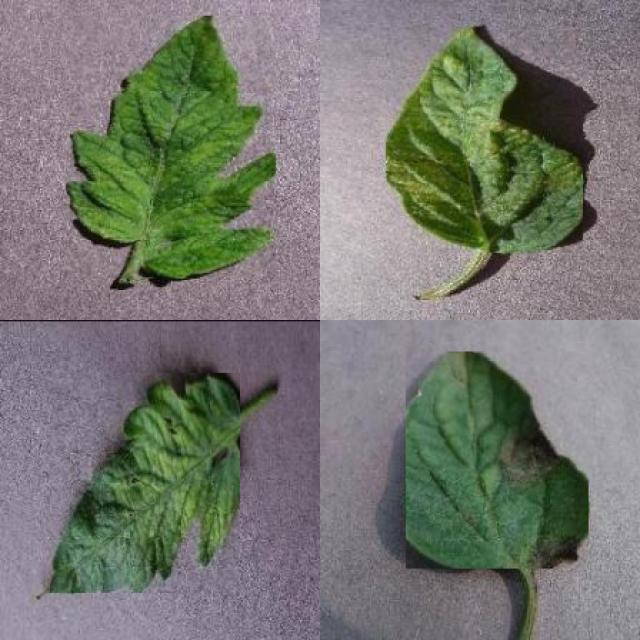Late Blight: (406, 352, 590, 568)
Mosaic Virus: (64, 15, 276, 278), (46, 374, 240, 594)
Spider Mites: (386, 27, 584, 253)
